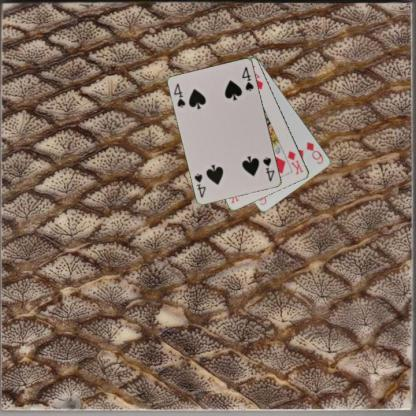4s: (260, 154, 276, 183), (171, 81, 187, 109)
6d: (304, 139, 325, 165)
Kd: (285, 148, 304, 176)
